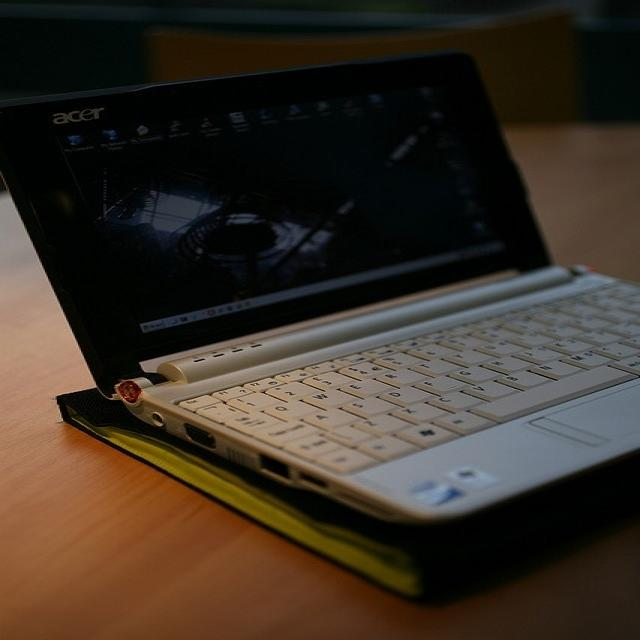E-waste: (0, 73, 640, 525)
